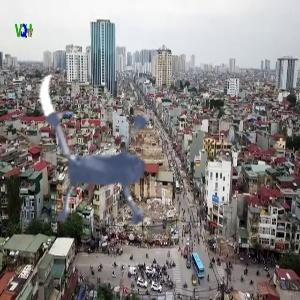drone: (9, 50, 214, 255)
